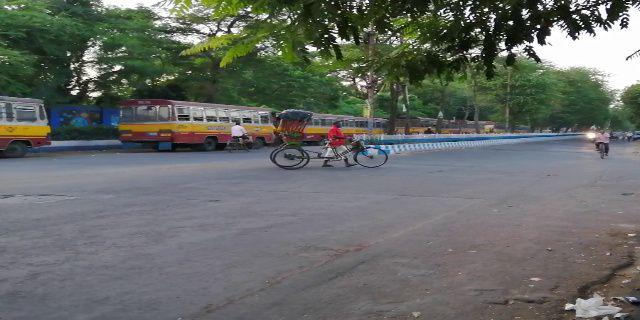Bus: (111, 96, 278, 151), (1, 97, 58, 158)
Cycle: (592, 124, 614, 162)
Rickshaw: (266, 108, 391, 173)
